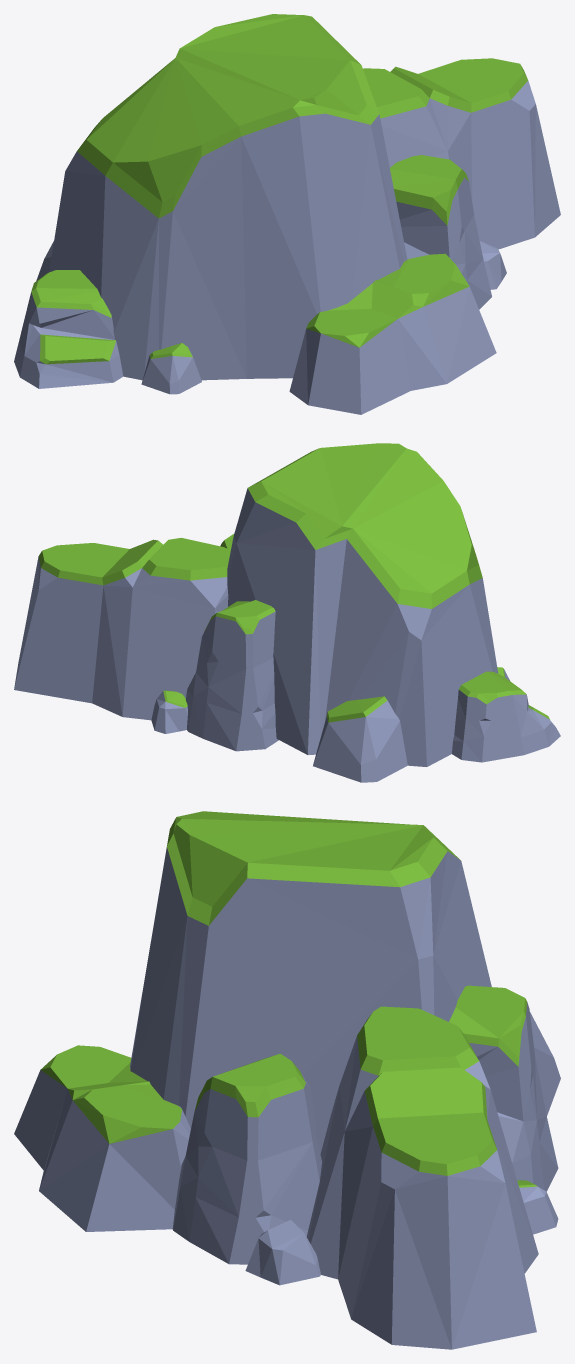
File: Rock_14_1.fbx
3 renders of one model, top to bottom at view 1: azimuth 30°, elevation 25°; view 2: azimuth 150°, elevation 25°; view 3: azimuth 270°, elevation 25°, orthographic. The views are drawn at different scales.
Parts seen in each view (by area): view 1: Rock_14_1; view 2: Rock_14_1; view 3: Rock_14_1.
Part boxes in pixels (<box>): Rock_14_1: <box>14,14,560,414</box>; Rock_14_1: <box>14,443,560,782</box>; Rock_14_1: <box>14,811,560,1349</box>.
Bounding box in the file's own units: 9.23 × 4.01 × 6.18.
